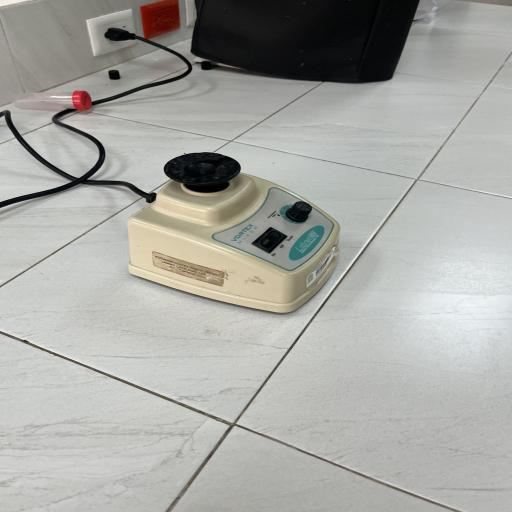Vortex_Mixer_LabNet: (128, 141, 354, 325)
